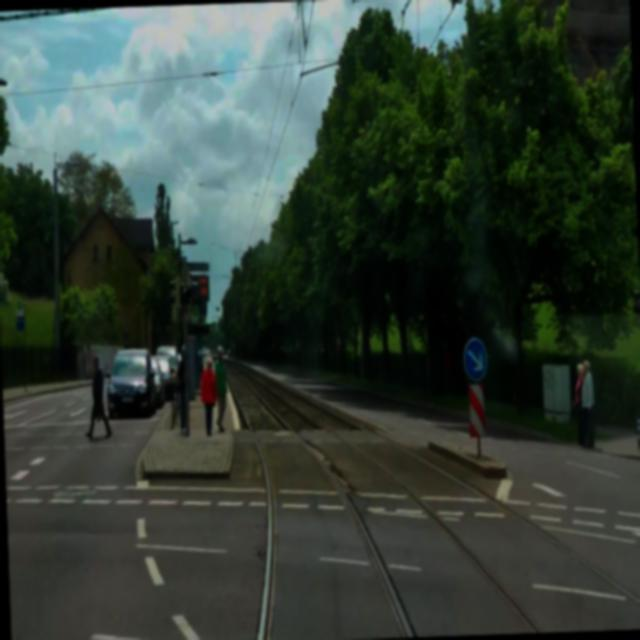rail: (221, 361, 456, 640)
